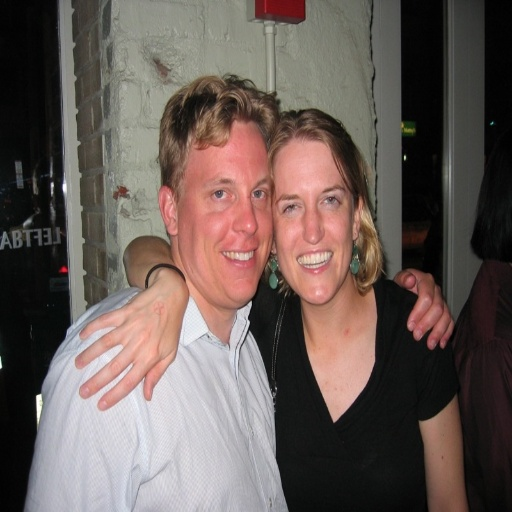hand: (71, 277, 190, 413), (397, 256, 458, 372)
